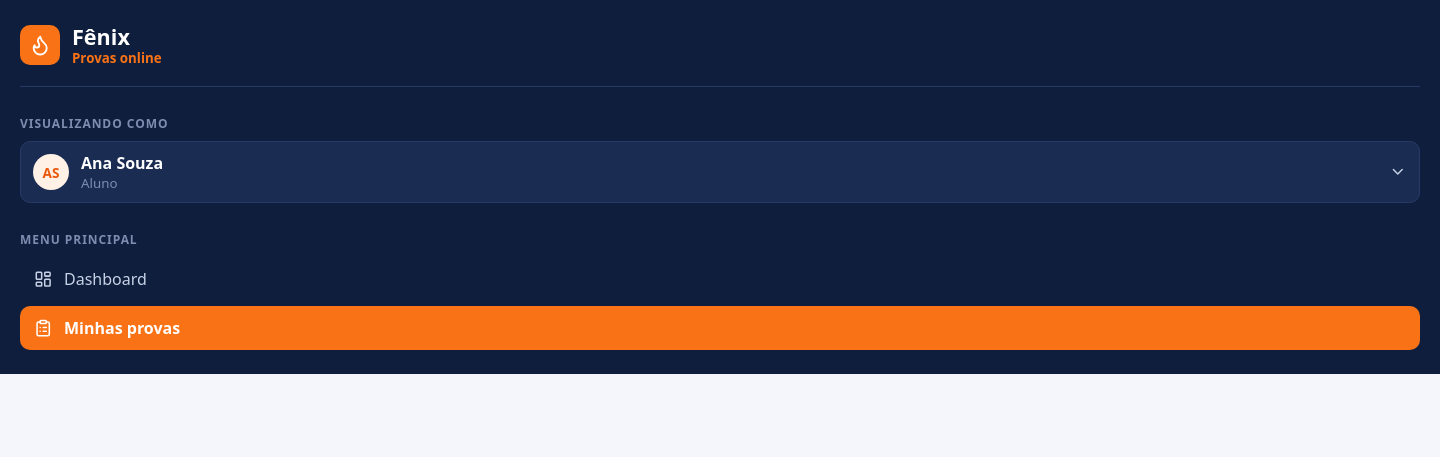
Test: AppSidebar › switches to the teacher access and opens the teacher dashboard
Click the button with class "access__current": (51, 172) [20,142,1420,203]
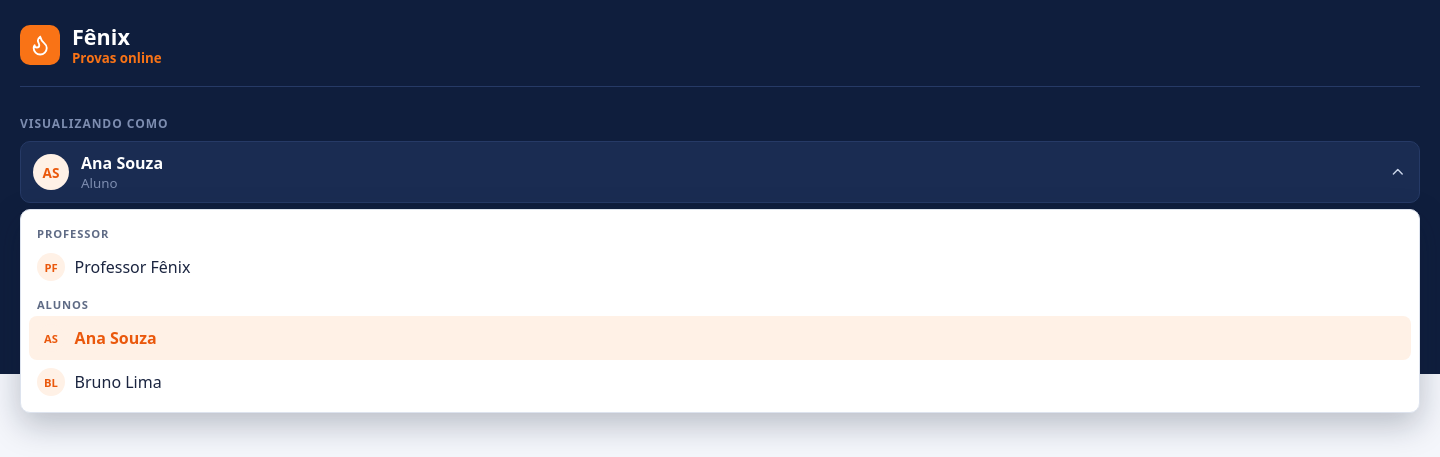
Click the option with class "access__option" showing "PF Professor Fênix": (132, 267) [29,245,1411,289]
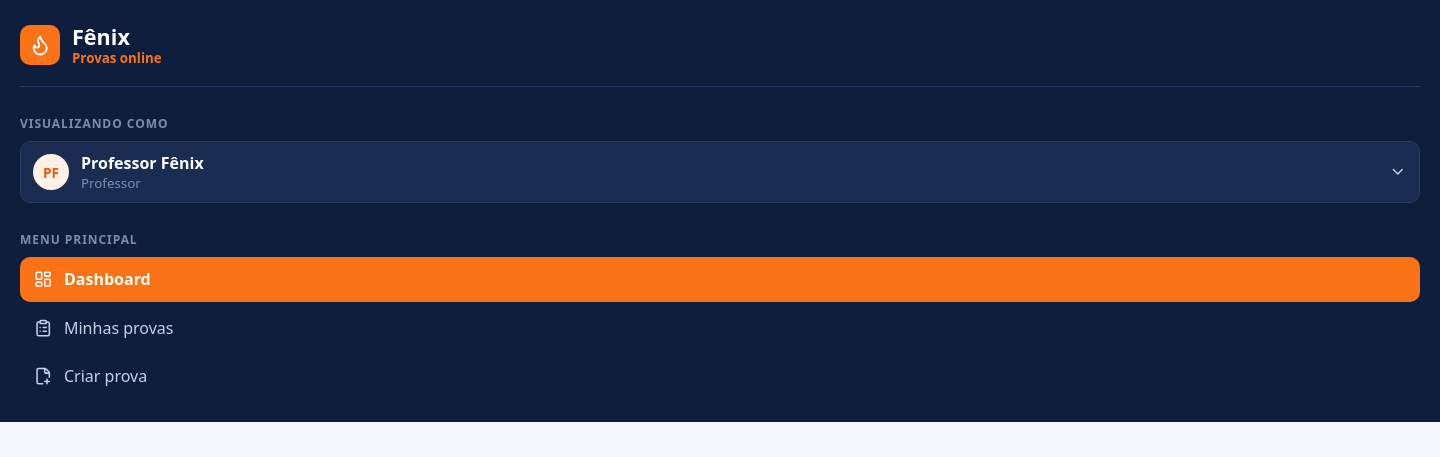
Now the button with class "access__current" shows "Professor Fênix", box [20,142,1420,203]
